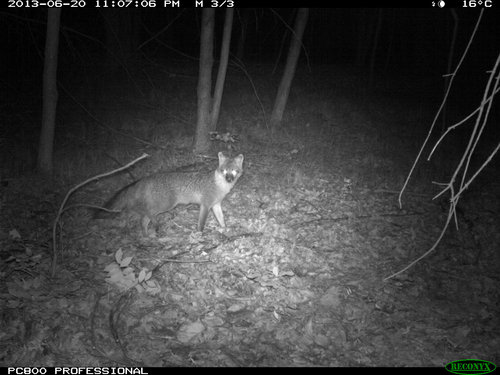fox: (84, 147, 257, 235)
